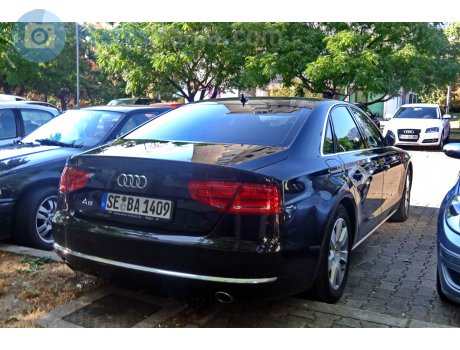License Plates: (109, 192, 170, 212)
